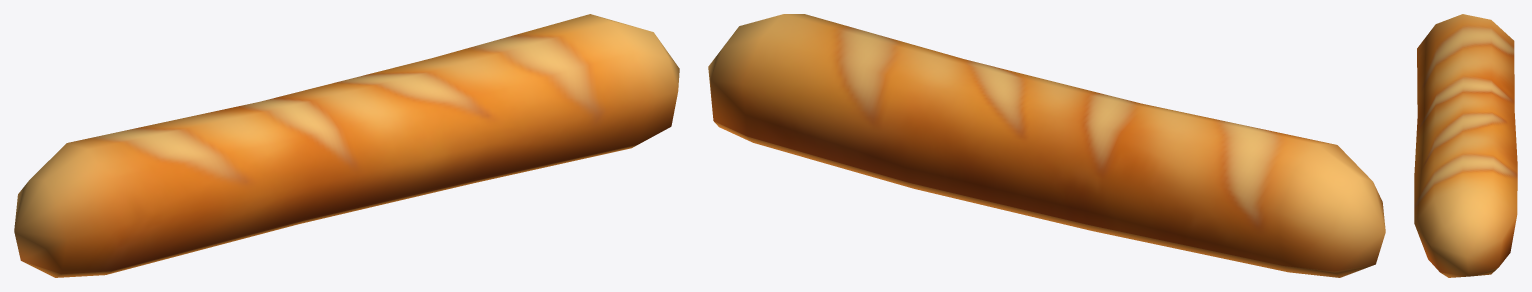
Rendered from Bread.fbx.
3 views of the same model, side by side, from view 1: azimuth 30°, elevation 25°; view 2: azimuth 150°, elevation 25°; view 3: azimuth 270°, elevation 25° (orthographic). The views are drawn at different scales.
Parts seen in each view (by area): view 1: Bread; view 2: Bread; view 3: Bread.
Part boxes in pixels (bbox=[...]): Bread: bbox=[14, 14, 679, 277]; Bread: bbox=[708, 14, 1385, 277]; Bread: bbox=[1414, 14, 1517, 277].
Size of the model in its own units: 204 by 32.97 by 40.42.
